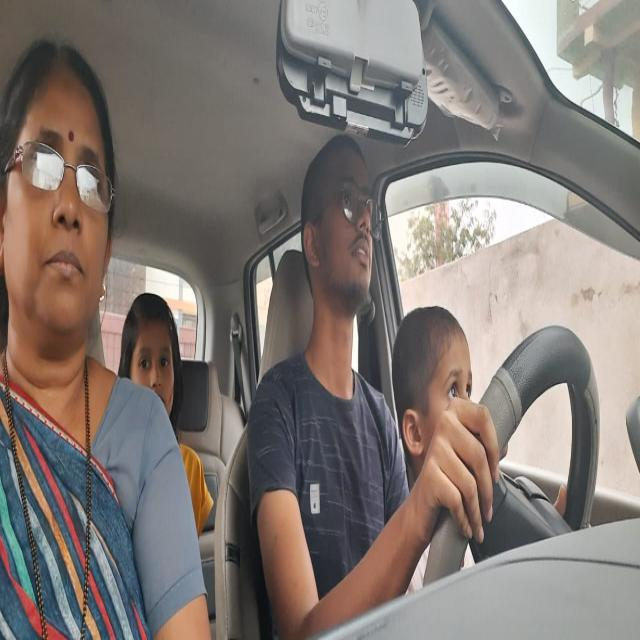child: (389, 296, 479, 464)
person: (1, 29, 120, 387), (299, 129, 383, 342), (120, 290, 186, 432)
